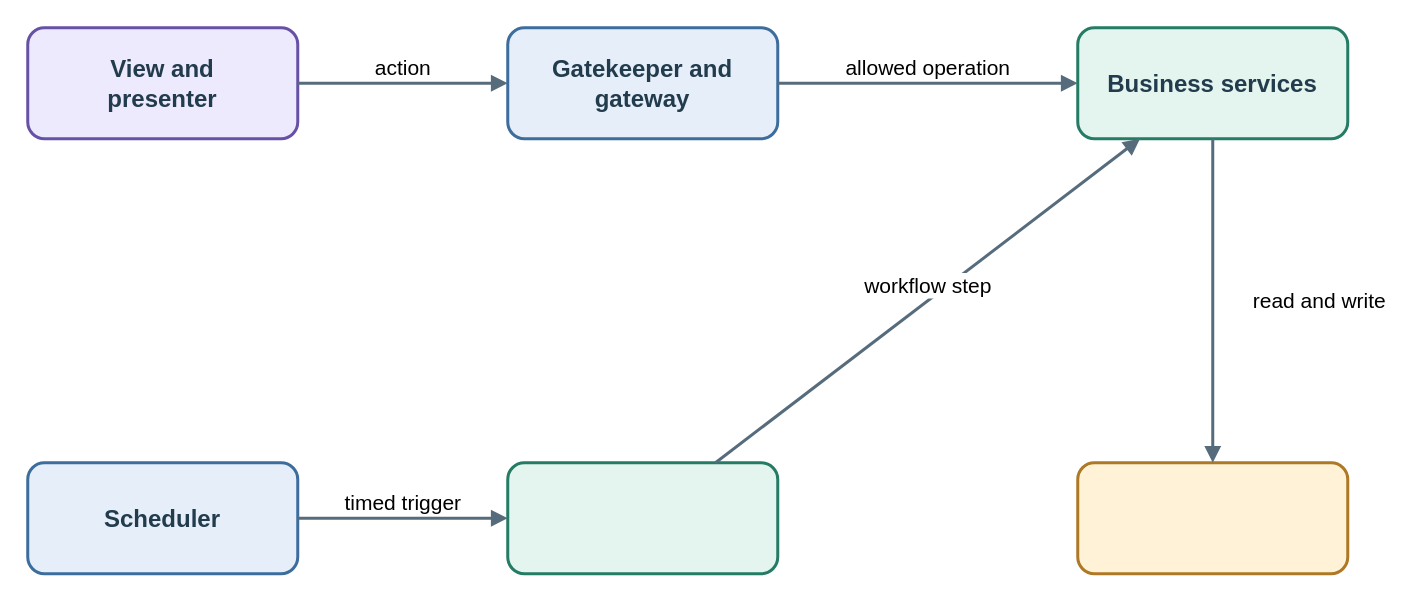
This 1412x600 diagram has some shape labels left out. Each missing label, with the centre of its shape:
"Saved records, cache and logs" goes at point (1212, 517).
"Workflow coordinator" goes at point (642, 517).
